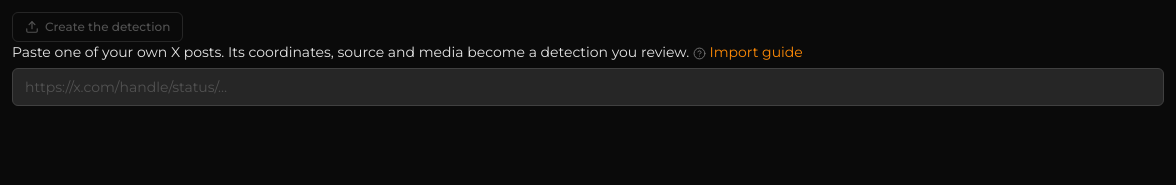
Test: ImportPostPanel › names the refusal when the post produced nothing, as a failure
Type "https://x.com/ana/status/1" into the field with placeholder "https://x.com/handle/status/…".
click(588, 87); type("https://x.com/ana/status/1")  # box [12, 68, 1164, 106]
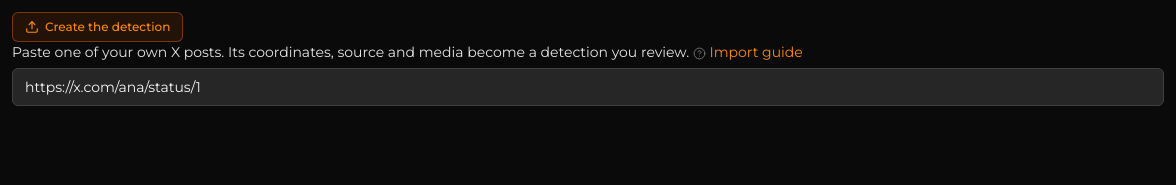
Click the button "Create the detection".
click(98, 27)  # box [12, 12, 183, 42]
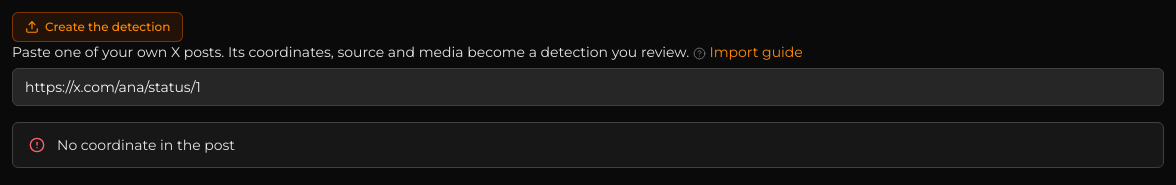
Result: the message reads "No coordinate in the post" at [57, 136, 235, 154]
